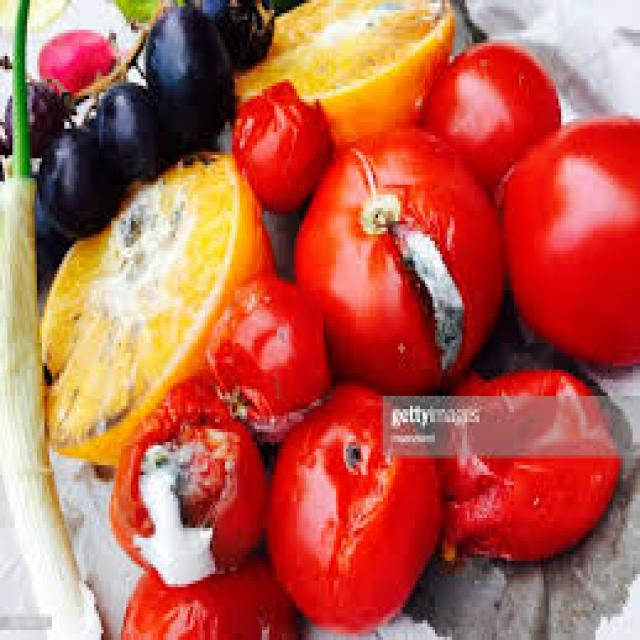organic waste: (37, 145, 272, 459), (0, 0, 104, 637), (289, 132, 507, 389), (262, 379, 437, 630), (228, 0, 452, 168), (497, 112, 638, 366), (432, 366, 618, 558), (109, 366, 262, 584), (205, 267, 324, 442), (428, 36, 558, 178), (116, 551, 294, 637), (230, 82, 328, 214), (146, 3, 230, 132), (35, 122, 111, 238), (96, 76, 176, 175), (0, 73, 62, 148), (37, 26, 114, 86), (197, 0, 274, 59), (29, 158, 66, 270), (113, 0, 170, 26), (259, 0, 299, 13)
